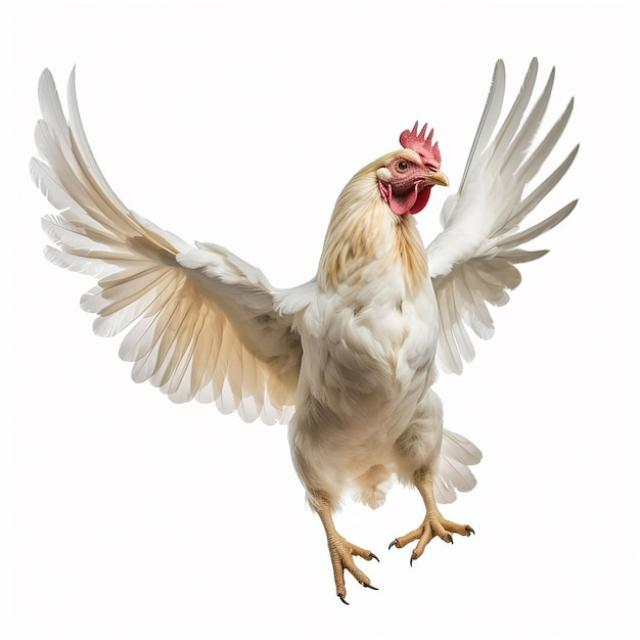Chicken: (28, 53, 579, 603)
